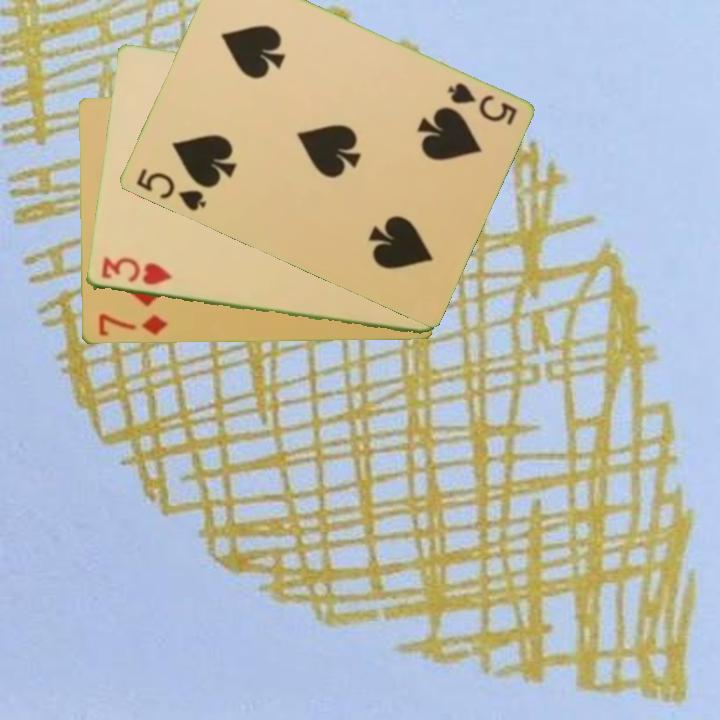3h: (97, 253, 174, 288)
5s: (443, 79, 520, 129), (132, 165, 209, 214)
7d: (95, 311, 170, 340)
